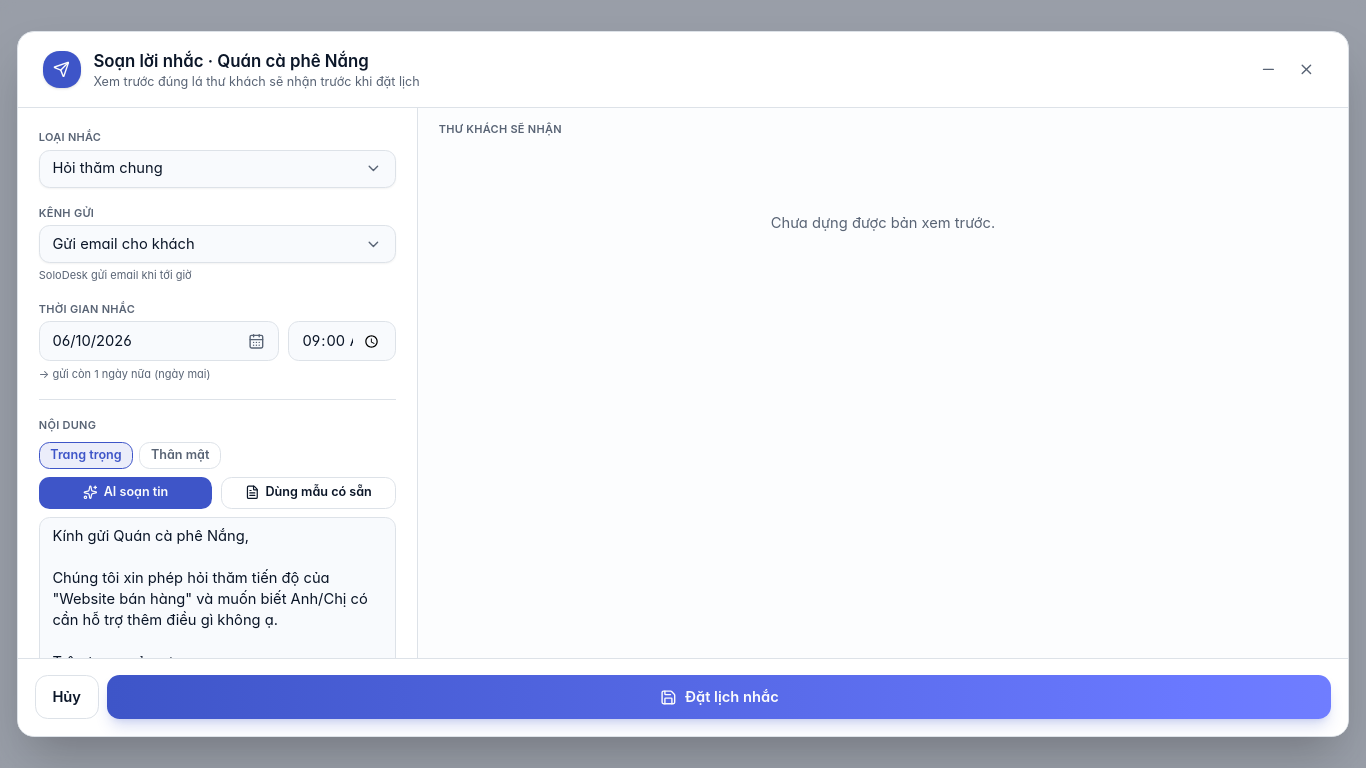
Test case: <ReminderComposerModal /> — đóng và thu nhỏ › nút 'Thu nhỏ' đúng là thu nhỏ, không phải đóng trá hình
The image size is (1366, 768).
Click the button named "thu nhỏ" at point(1268, 70), box [1252,53,1285,86]
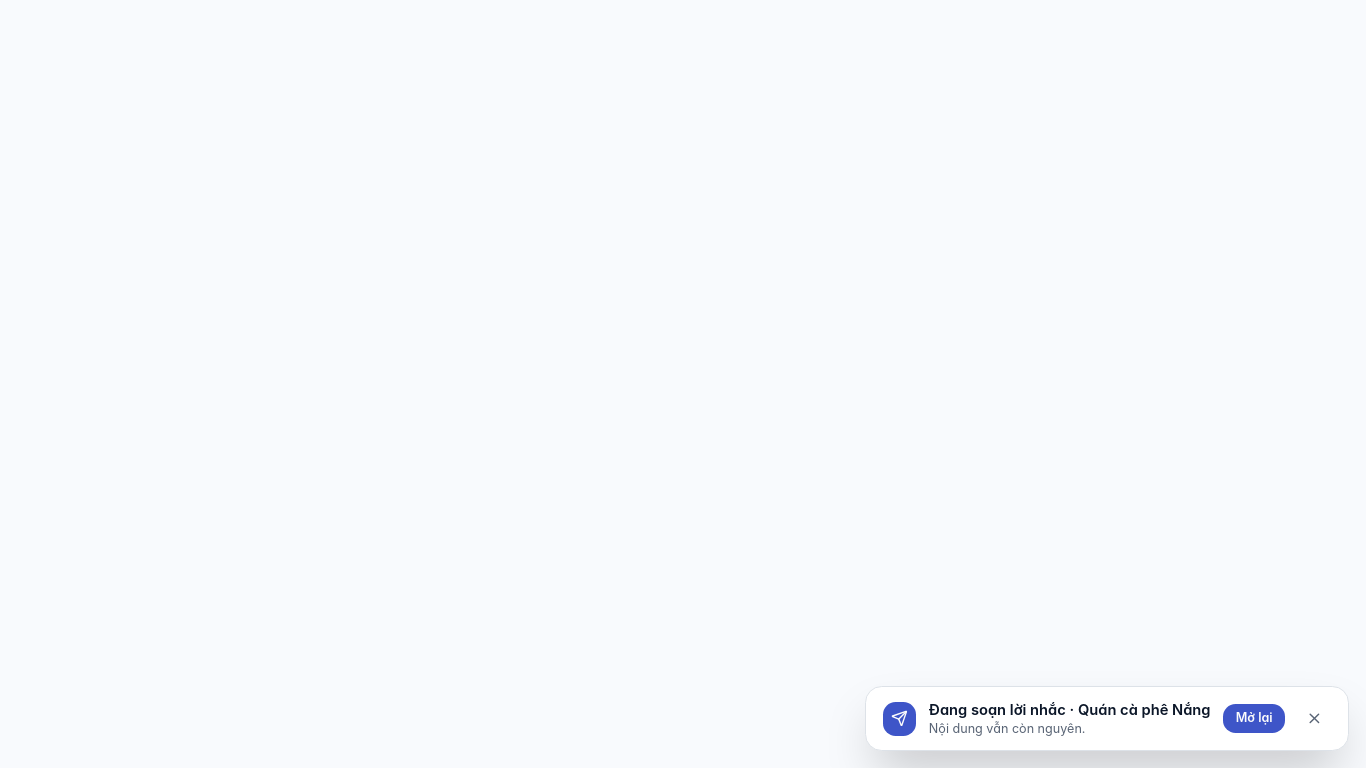
Result: the button "Mở lại" is shown at [1223,704,1285,733]
